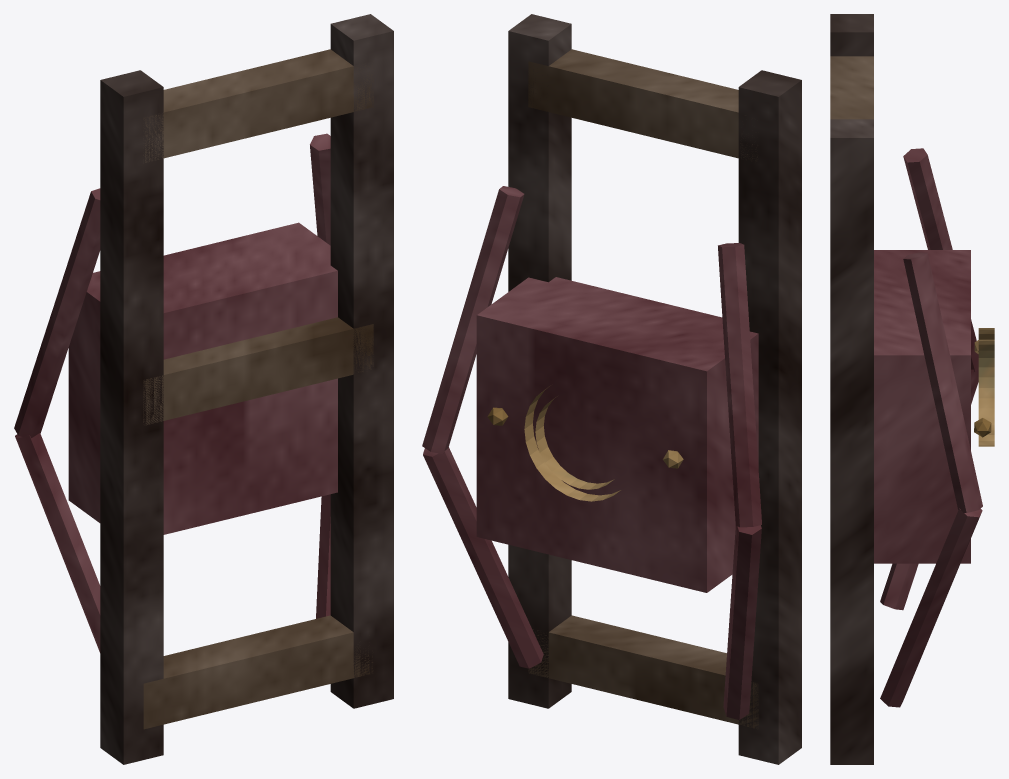
The model's file is 0842_carrier_frame_17.glb.
The picture shows the model from 3 angles, left to right: view 1: azimuth 30°, elevation 25°; view 2: azimuth 150°, elevation 25°; view 3: azimuth 270°, elevation 25°; orthographic projection. The views are drawn at different scales.
Visible parts, largest first — view 1: wood_dark, cloth, wood; view 2: cloth, wood_dark, wood, brass; view 3: cloth, wood_dark, wood, brass.
Boxes of the visible parts, box(x1,y1,x2,y2) form: wood_dark: box(100, 14, 393, 764); cloth: box(14, 133, 337, 652); wood: box(143, 49, 373, 729); cloth: box(422, 186, 761, 719); wood_dark: box(508, 14, 801, 764); wood: box(528, 49, 758, 729); brass: box(487, 385, 683, 501); cloth: box(874, 148, 982, 707); wood_dark: box(830, 14, 873, 764); wood: box(830, 56, 873, 119); brass: box(974, 328, 994, 446).
Size of the model in its own units: 0.921 by 1.75 by 0.415.
Materials: 4 (4 with a texture image).
